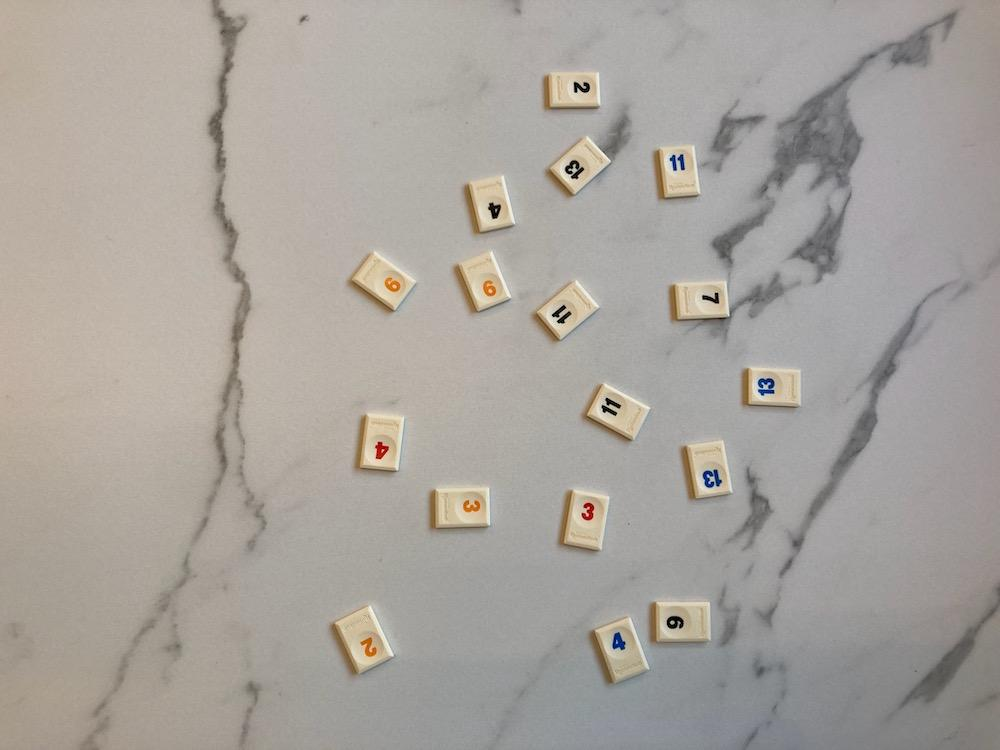black_11: (537, 281, 598, 340), (588, 383, 650, 439)
black_13: (551, 137, 611, 195)
black_2: (547, 72, 600, 107)
black_4: (470, 177, 514, 231)
black_7: (674, 281, 729, 320)
black_9: (654, 602, 711, 643)
blue_11: (658, 146, 698, 196)
blue_13: (687, 441, 731, 498), (748, 368, 801, 405)
blue_4: (594, 617, 648, 684)
orange_2: (334, 605, 393, 674)
orange_3: (437, 488, 490, 527)
orange_9: (352, 252, 416, 311), (459, 252, 510, 311)
red_3: (564, 490, 609, 551)
red_4: (361, 414, 404, 471)
